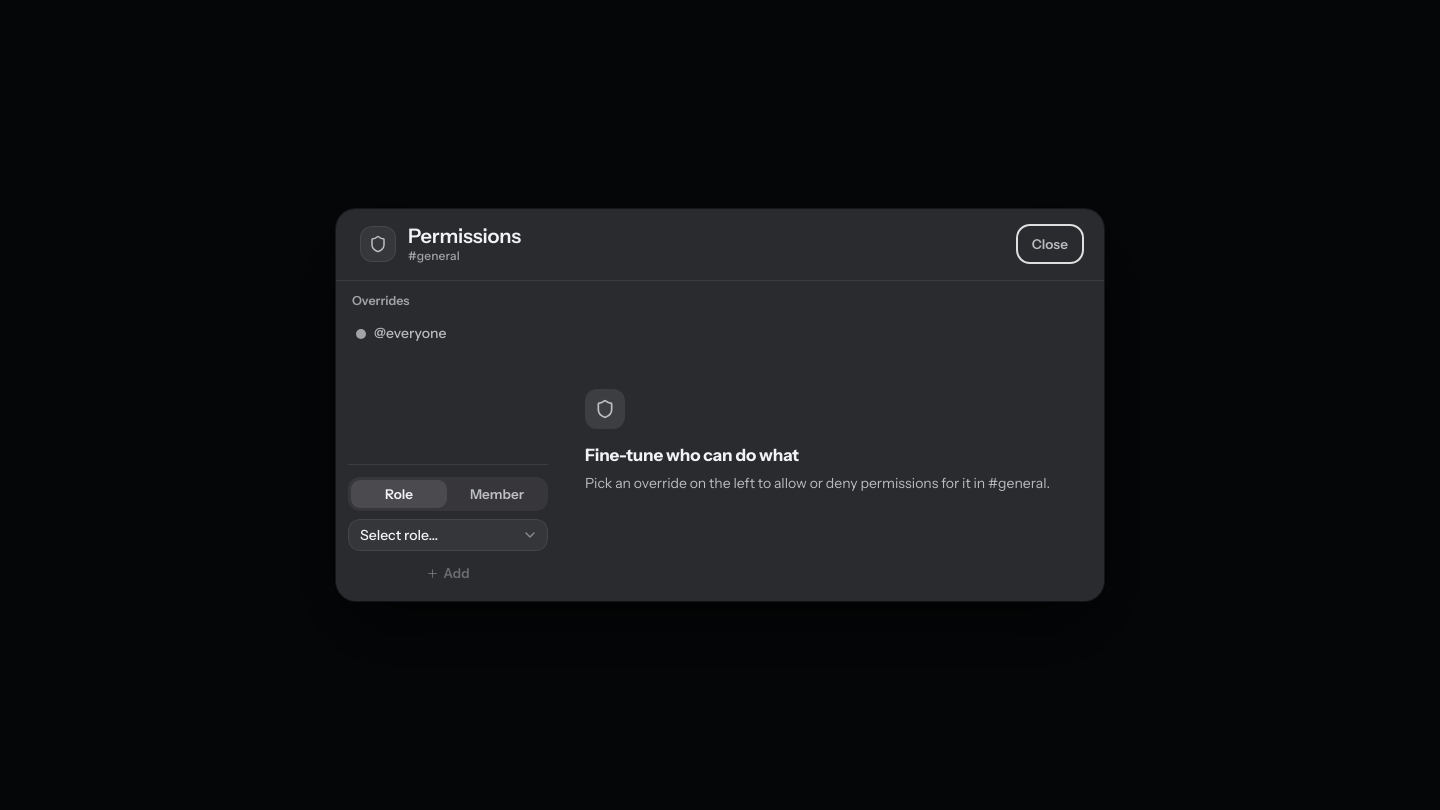
Scenario: ChannelPermissionsEditor › explains inherited outcomes and updates the effective preview live
Click the button "@everyone": (448, 334) [348,316,548,352]
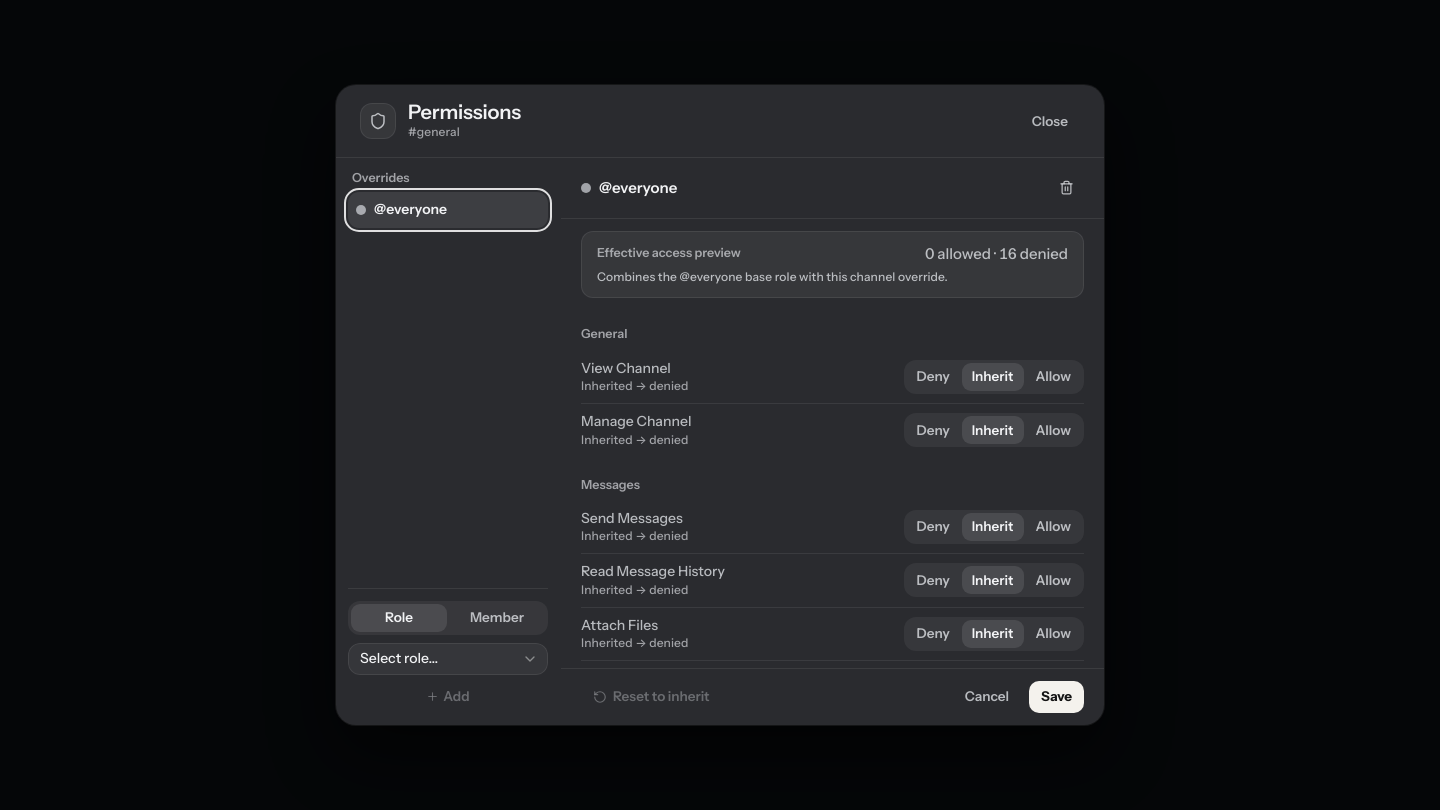
Check: the text "0 allowed · 16 denied" is shown, box [925,243,1068,264]
Check: the text "Combines the @everyone base role with this channel override." is shown, box [597,269,948,284]
Check: the text "Inherited → denied" below "View Channel" is shown, box [581,378,688,395]
Click the tab "Allow" in the row of "View Channel": (1053, 377) [1025,363,1081,391]
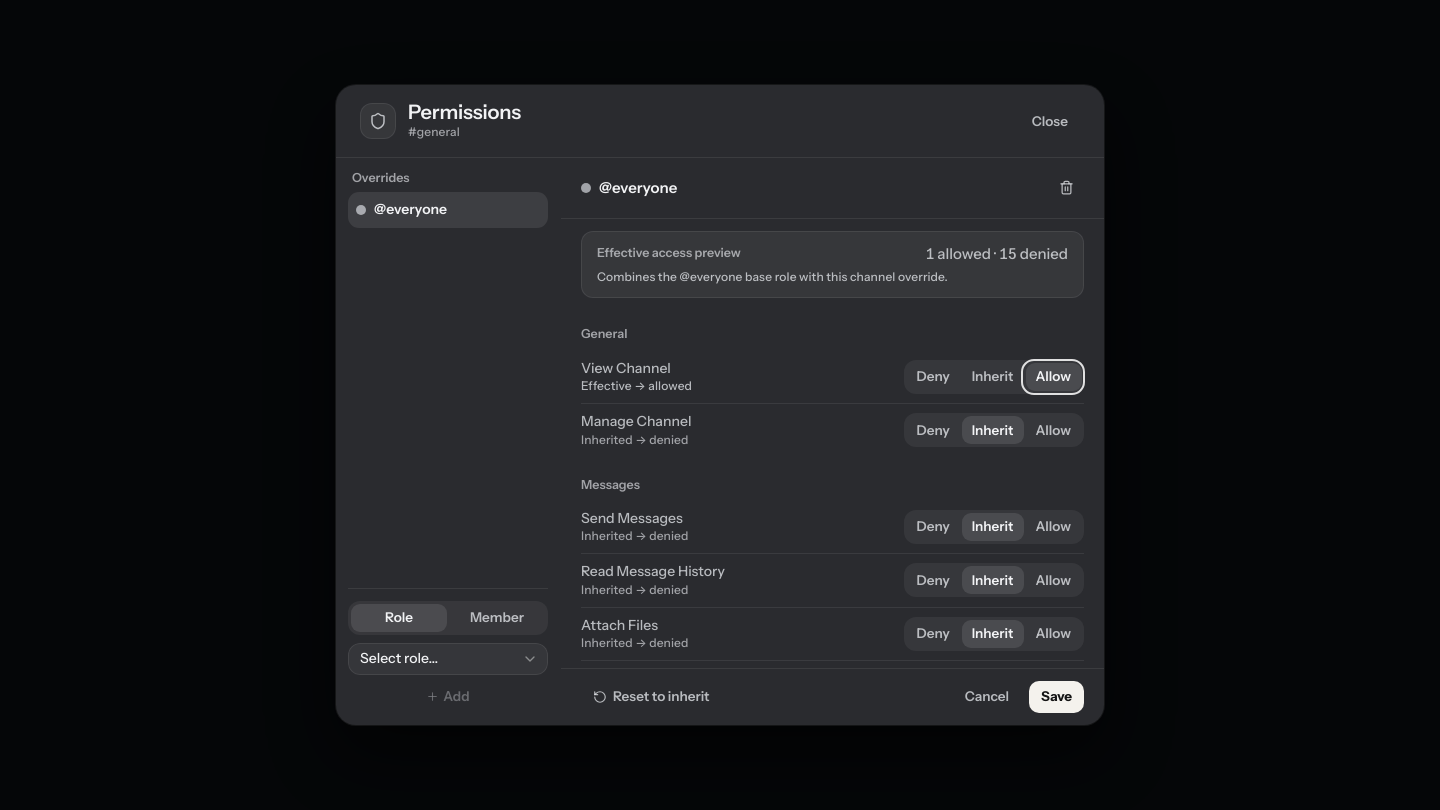
Check: the text "Effective → allowed" is shown, box [581,378,692,395]
Check: the text "1 allowed · 15 denied" is shown, box [925,243,1068,264]
